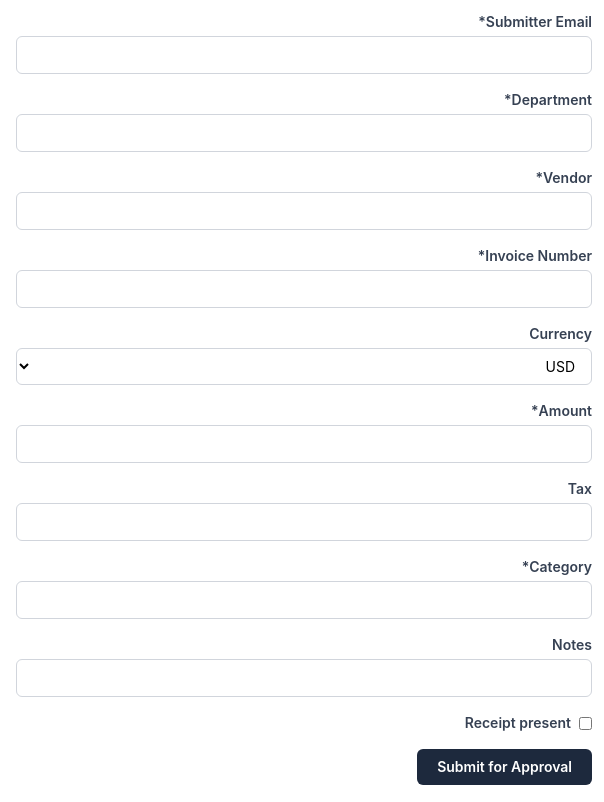
Scenario: SubmitForm › shows validation errors when submitting empty form
This screenshot has width=604, height=802.
Click the button "Submit for Approval".
click(505, 767)  # box x1=417 y1=749 x2=592 y2=785
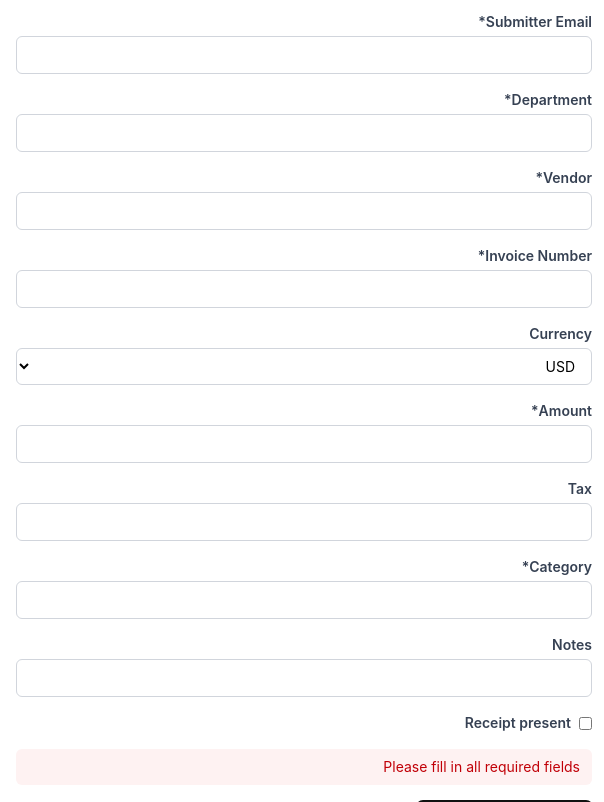
Check: the text "Please fill in all required fields" is shown, box x1=16 y1=749 x2=592 y2=785
